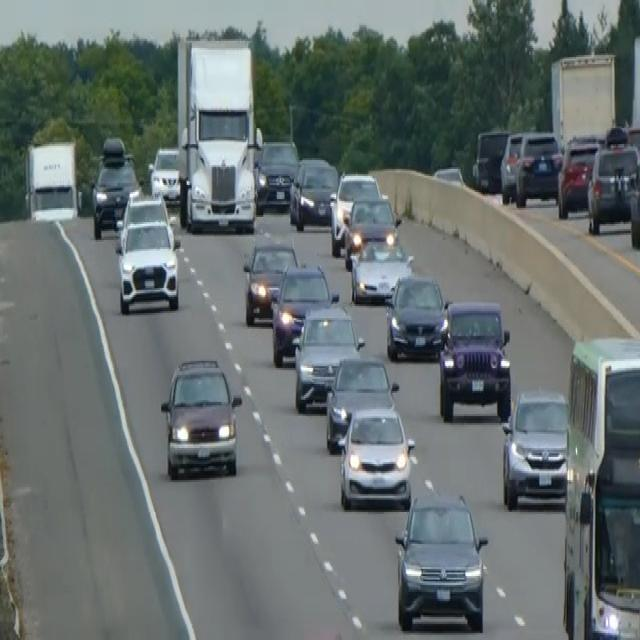bus: (559, 331, 639, 638)
car: (393, 487, 488, 631), (159, 354, 242, 480), (437, 297, 511, 421), (500, 386, 569, 510), (338, 404, 415, 510), (291, 302, 365, 412), (324, 352, 399, 452), (270, 262, 338, 366), (115, 217, 180, 313), (384, 270, 448, 361), (586, 139, 639, 233), (242, 238, 298, 326), (349, 231, 414, 304), (328, 169, 381, 254), (342, 194, 400, 266), (91, 155, 139, 238), (556, 133, 601, 219), (514, 130, 562, 206), (289, 157, 338, 231), (254, 137, 299, 210), (114, 190, 170, 246), (471, 126, 509, 192), (148, 144, 181, 203), (499, 130, 525, 202), (628, 151, 639, 249), (100, 134, 126, 164), (432, 164, 465, 186)
lorry: (175, 34, 262, 233)
